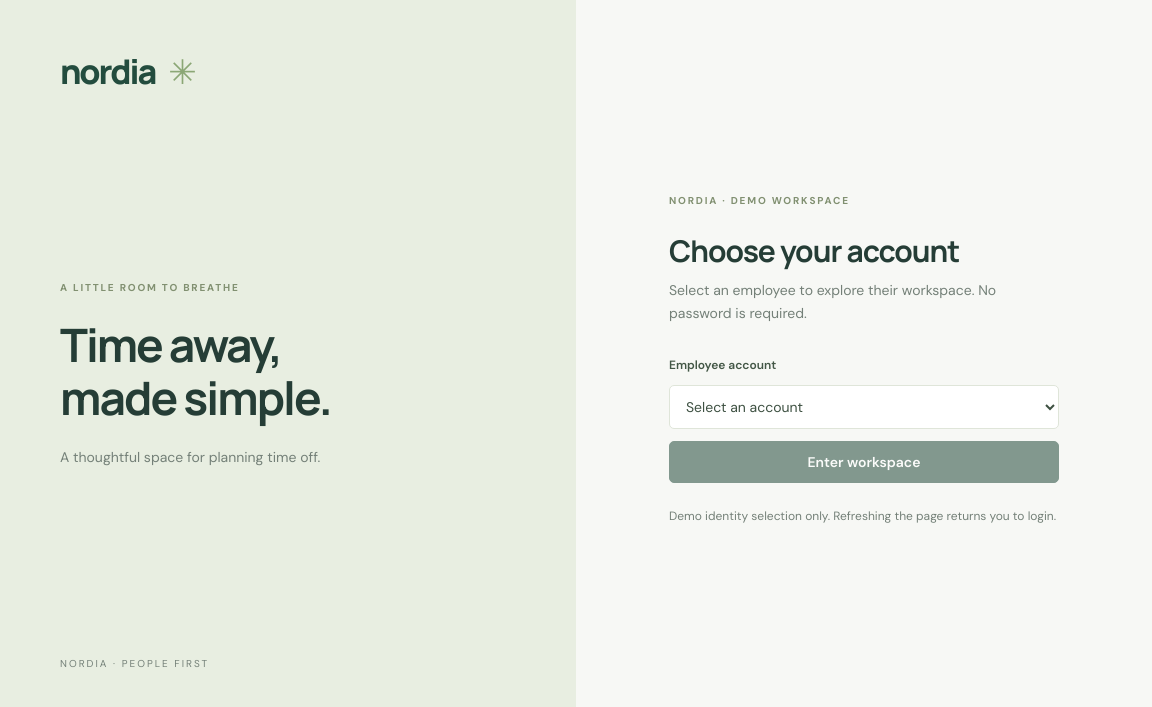
displays an API error and preserves entered dates after failed submission
Select "Bilel Khemiri · Platform · employee" in the dropdown labelled "Employee account" at [864, 407], box [669,385,1059,429]
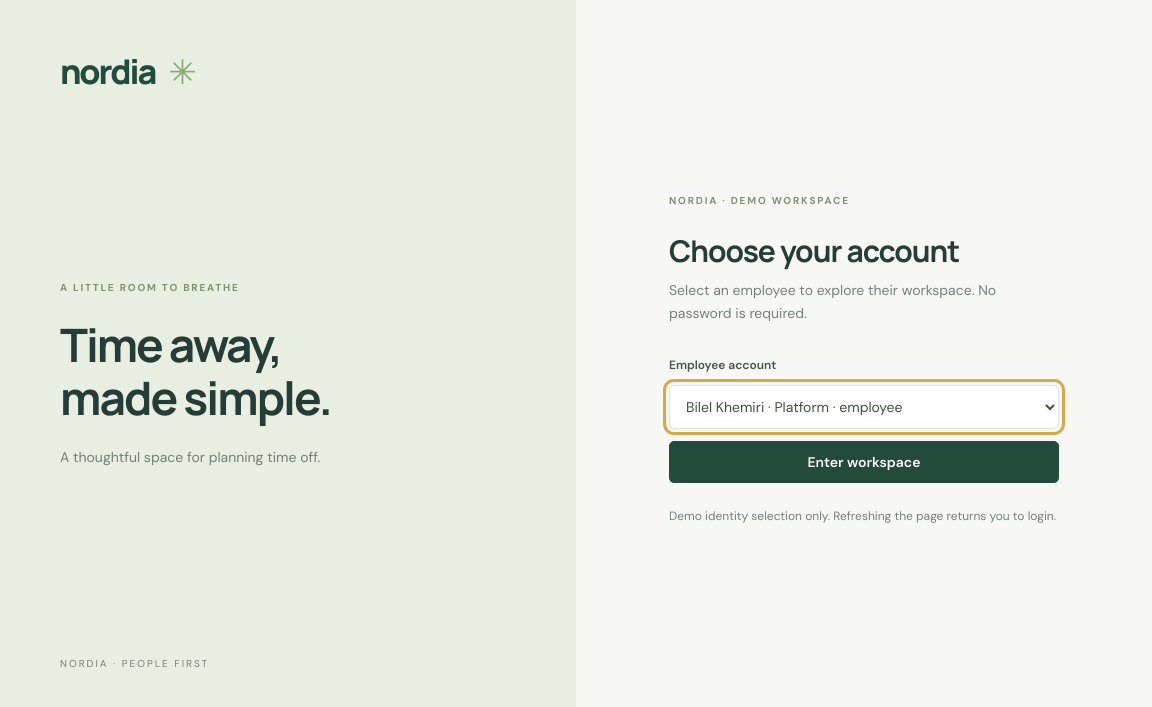
Click the button "Enter workspace" at [864, 462], box [669,441,1059,483]
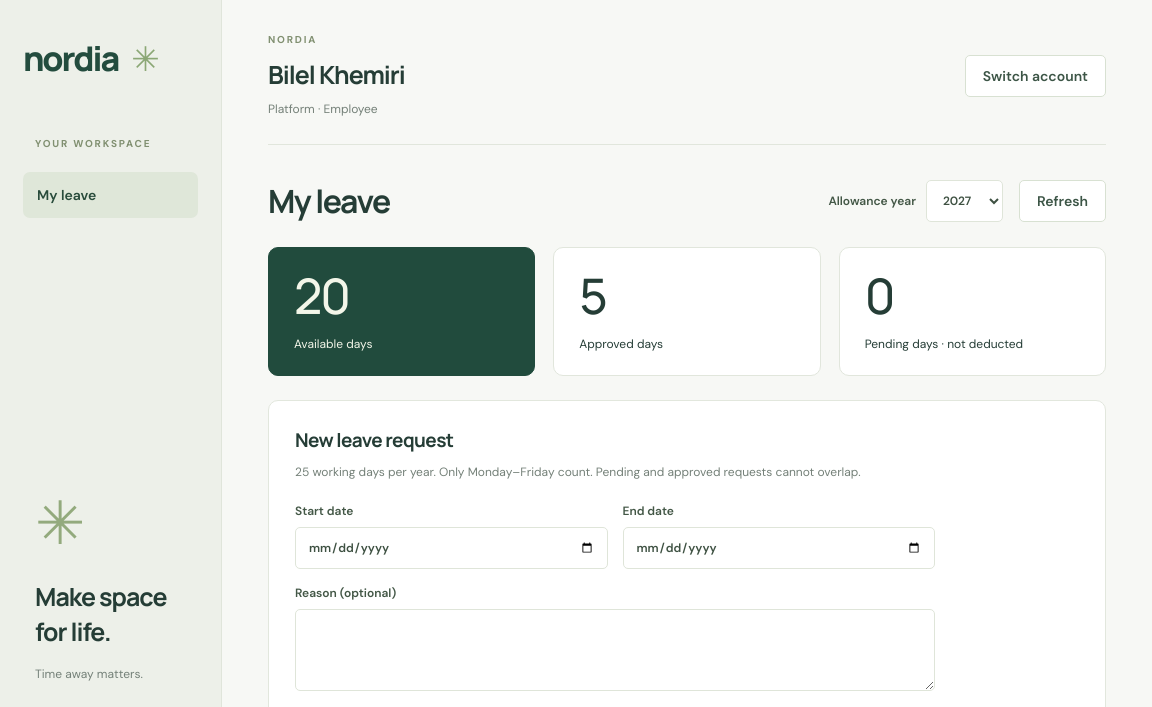
Expected: the text "Available days" is shown, [294,336,372,352]
Type "2027-06-01" into the date field labelled "Start date" at [451, 548], box [295,527,608,569]
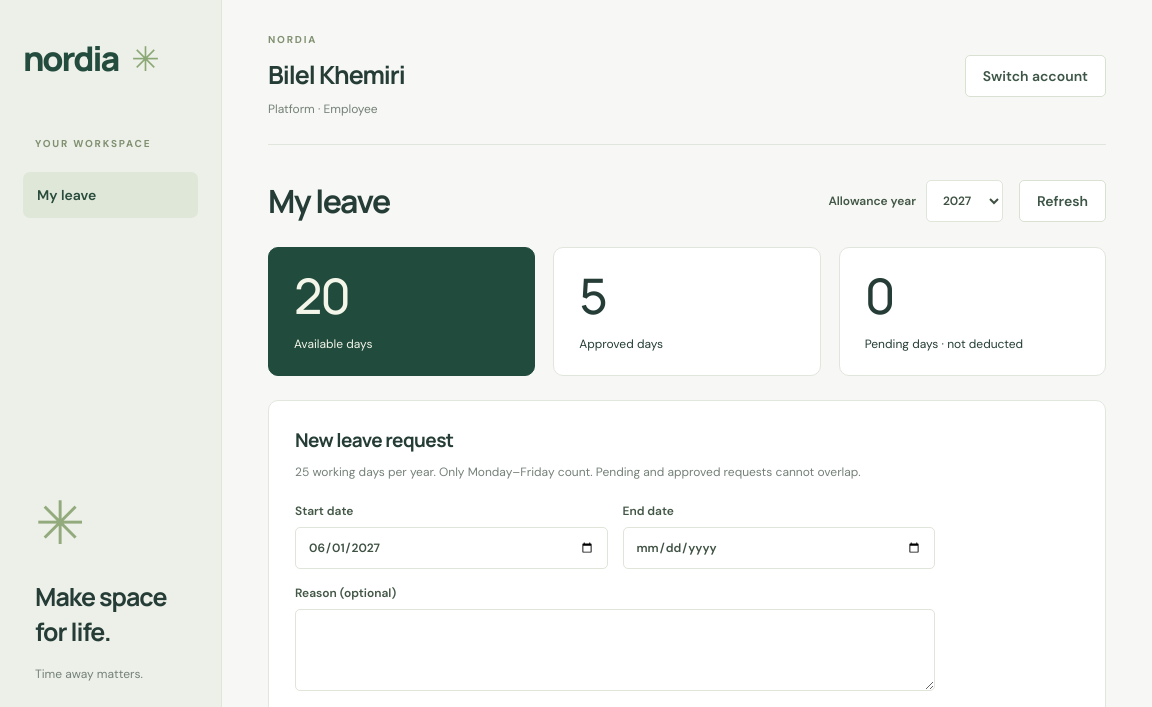
Type "2027-06-03" into the date field labelled "End date" at [779, 548], box [622,527,935,569]
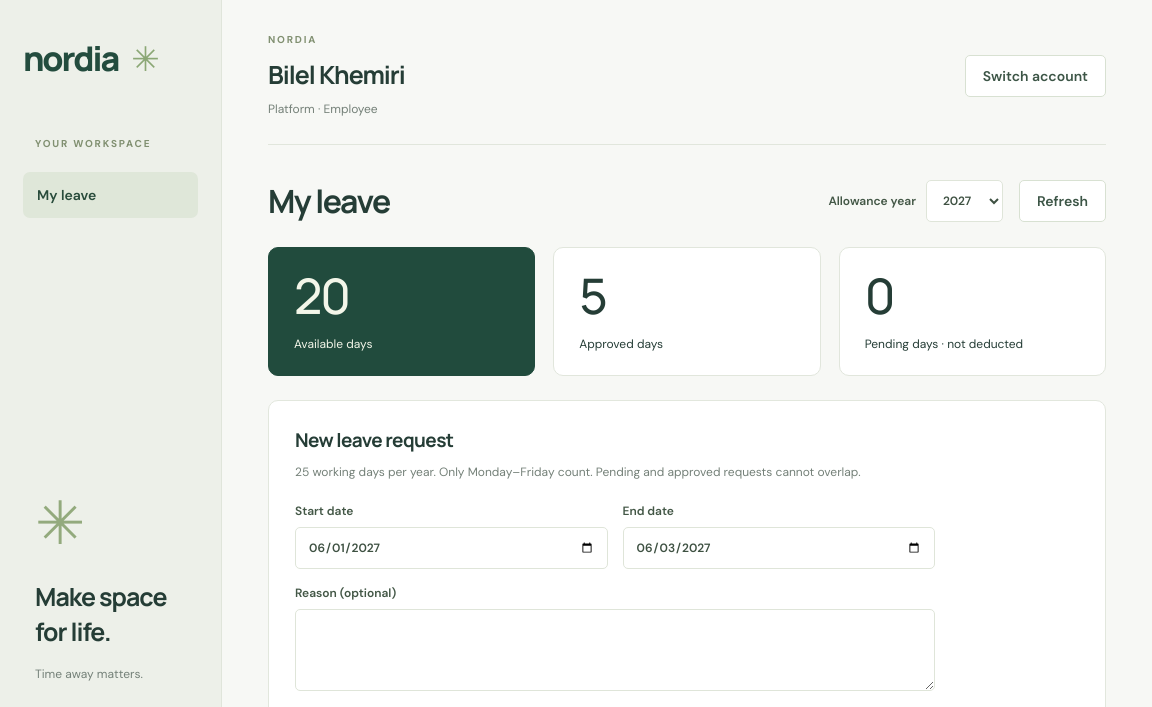
Type "Family trip" into the text box labelled "Reason (optional)" at [615, 650], box [295,609,935,691]
(page scrolled)
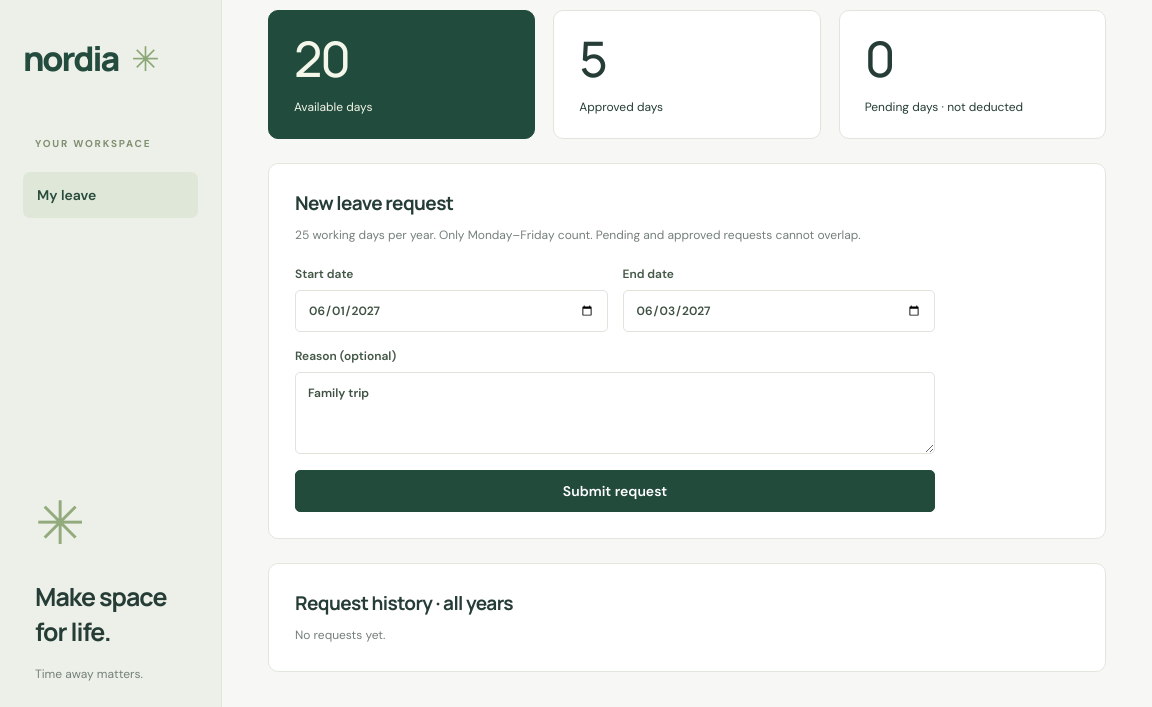
Click the button "Submit request" at [615, 491], box [295,470,935,512]
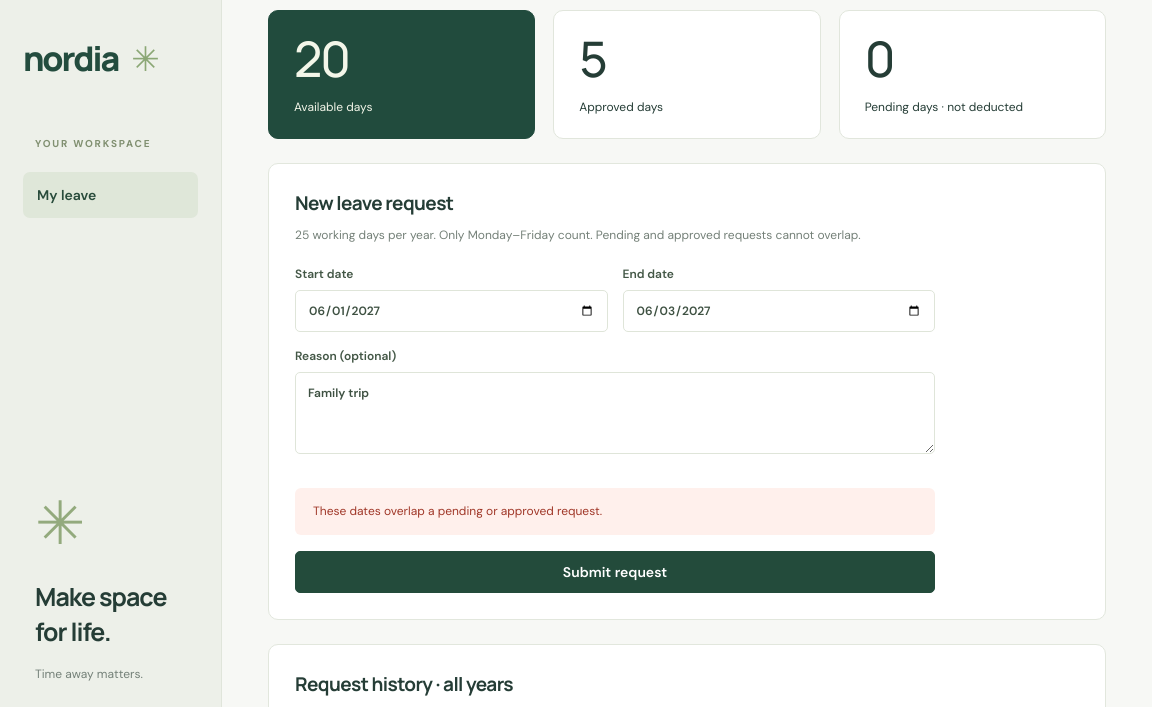
Expected: the button "Submit request" is enabled, [295,552,935,594]
Expected: the message reads "These dates overlap a pending or approved request.", [313,503,602,519]
